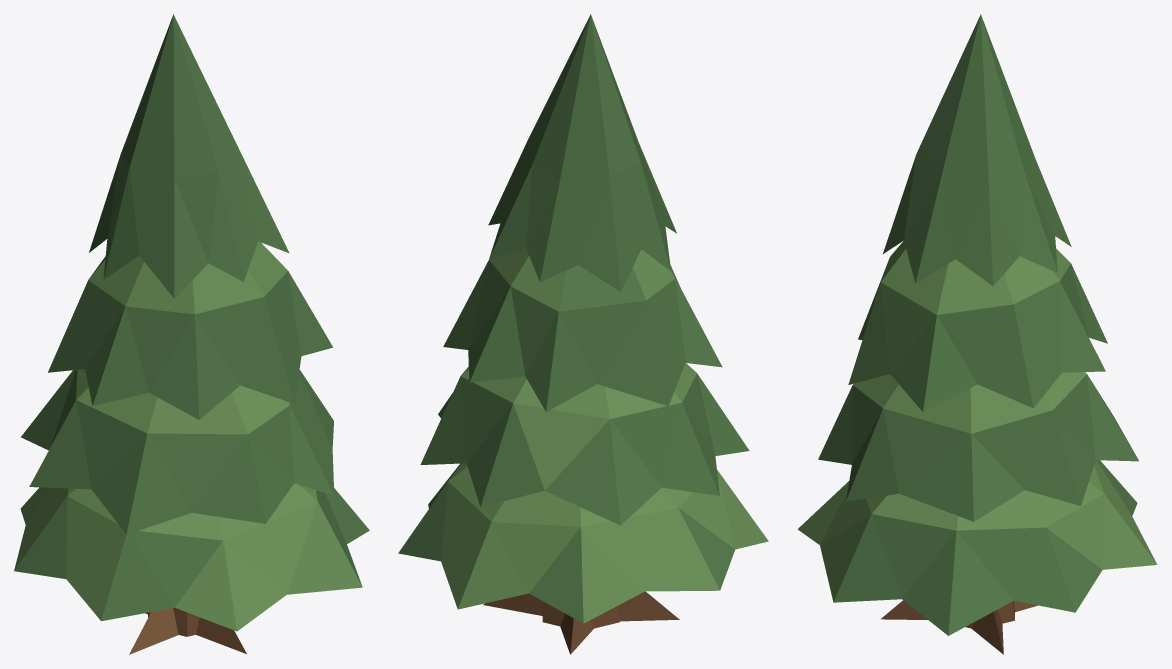
The model's file is tree_pineSmallB.glb.
3 renders of one model, left to right at view 1: azimuth 30°, elevation 25°; view 2: azimuth 150°, elevation 25°; view 3: azimuth 270°, elevation 25°, orthographic. The views are drawn at different scales.
Visible parts, largest first — view 1: tree_pineSmallB.002; view 2: tree_pineSmallB.002; view 3: tree_pineSmallB.002.
Part boxes in pixels (x1,y1,x2,y2): tree_pineSmallB.002: [14, 14, 369, 654]; tree_pineSmallB.002: [398, 14, 768, 654]; tree_pineSmallB.002: [797, 14, 1157, 654].
Bounding box in the file's own units: 1.12 × 2 × 1.1.
